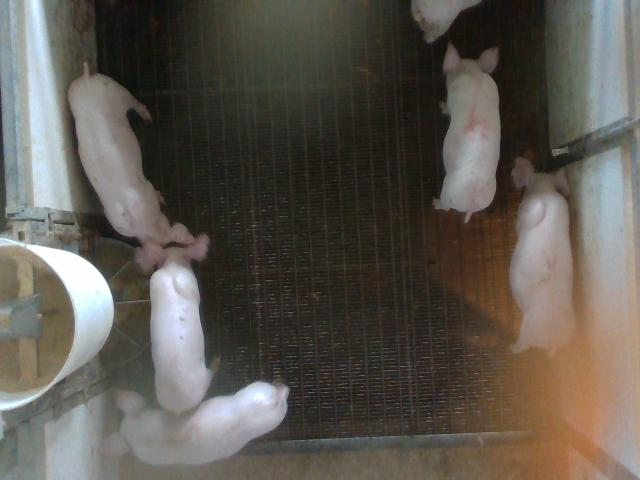pig-3: (104, 381, 289, 465)
pig-4: (434, 44, 501, 222)
